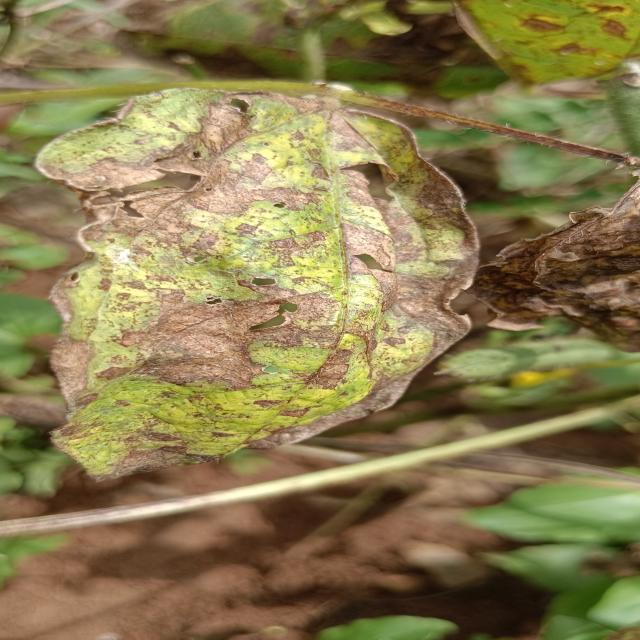Black gram_leaf spot: (21, 71, 506, 501), (461, 172, 640, 352), (436, 0, 639, 85)
